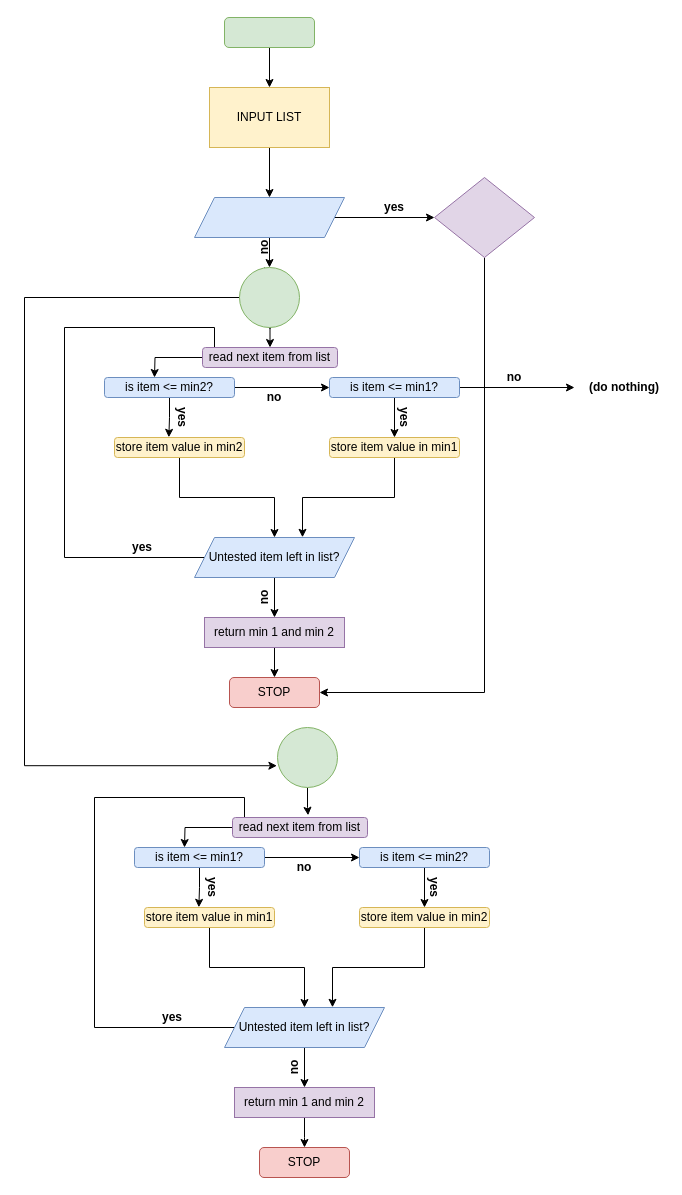
Image size: 682x1195. Some labels were removed from this diagram. Each missing label, with the centre of its shape:
"if m1 < m2" goes at (x=307, y=757).
"if m2 < m1" goes at (x=269, y=297).
"Is List Empty?" goes at (x=269, y=217).
"OUTPUT N/A" goes at (x=484, y=217).
"START" goes at (x=269, y=32).
